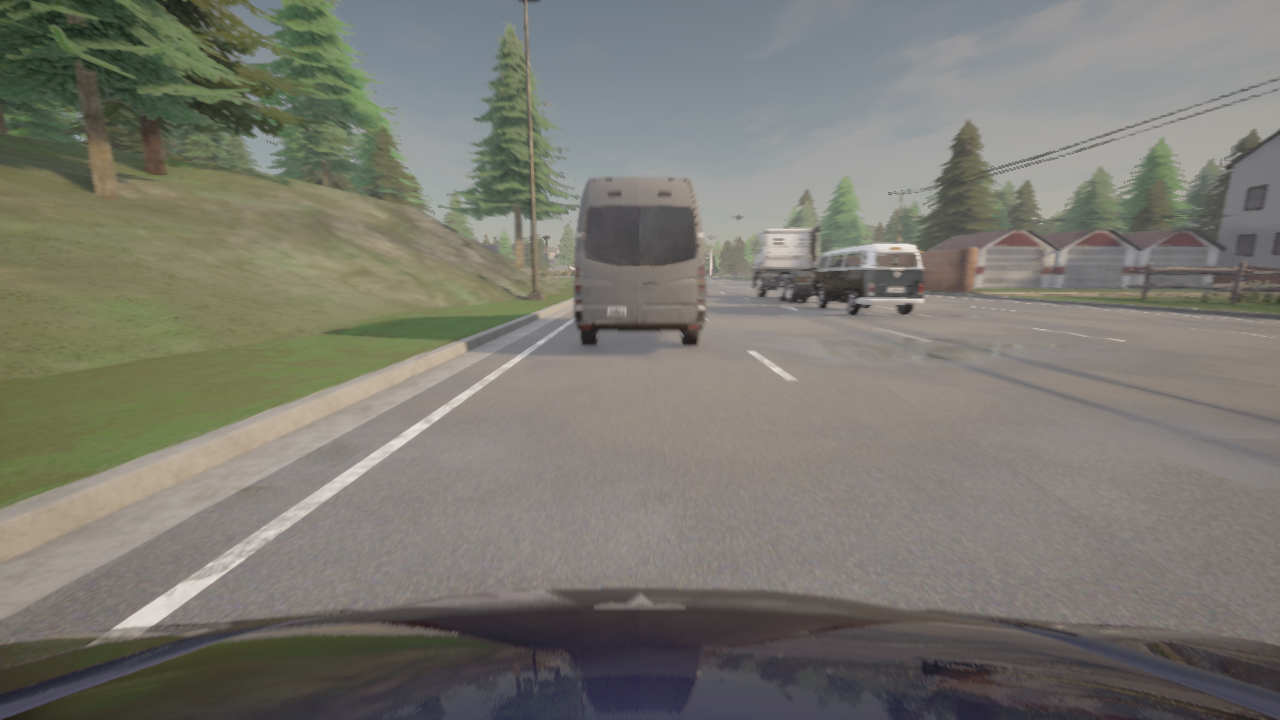cyclist: (0, 588, 1279, 719), (574, 177, 706, 346), (812, 243, 924, 315), (749, 226, 845, 303)
